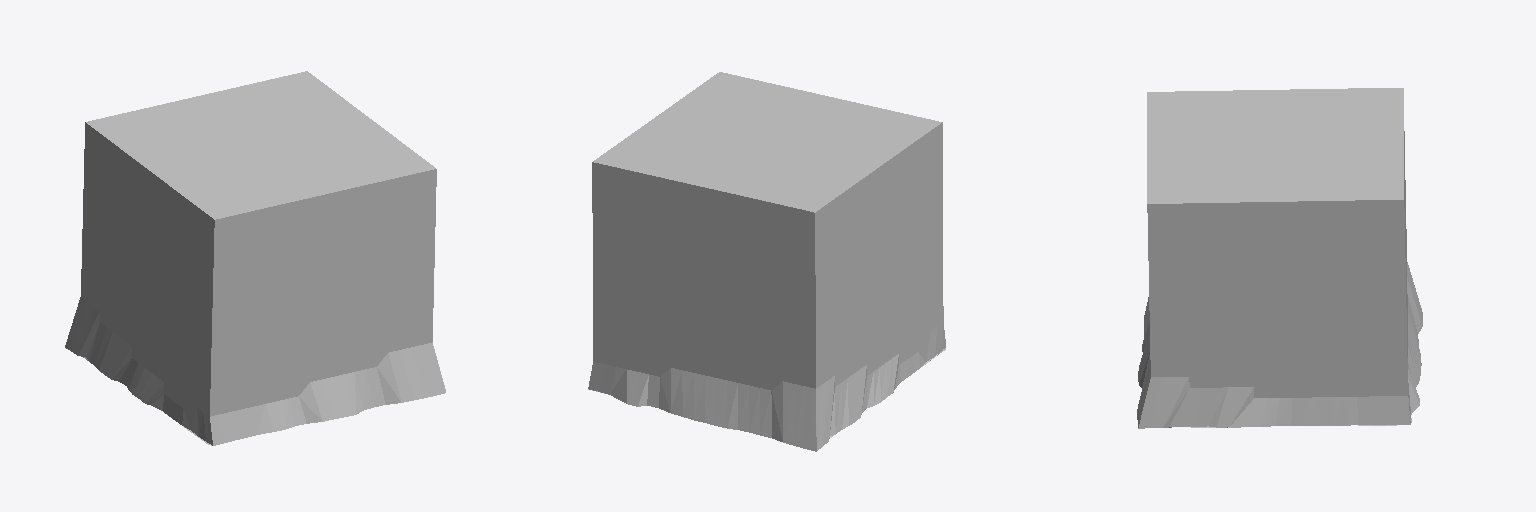
Rendered from mod0067.obj.
The picture shows the model from 3 angles: view 1: azimuth 30°, elevation 25°; view 2: azimuth 150°, elevation 25°; view 3: azimuth 270°, elevation 25°; orthographic projection.
Parts seen in each view (by area): view 1: Box001; view 2: Box001; view 3: Box001.
Boxes of the visible parts, x1,y1,x2,y2 form: Box001: [65, 71, 445, 445]; Box001: [588, 72, 945, 451]; Box001: [1137, 88, 1422, 428].
Bounding box in the file's own units: 0.5799 × 0.5319 × 0.5979.